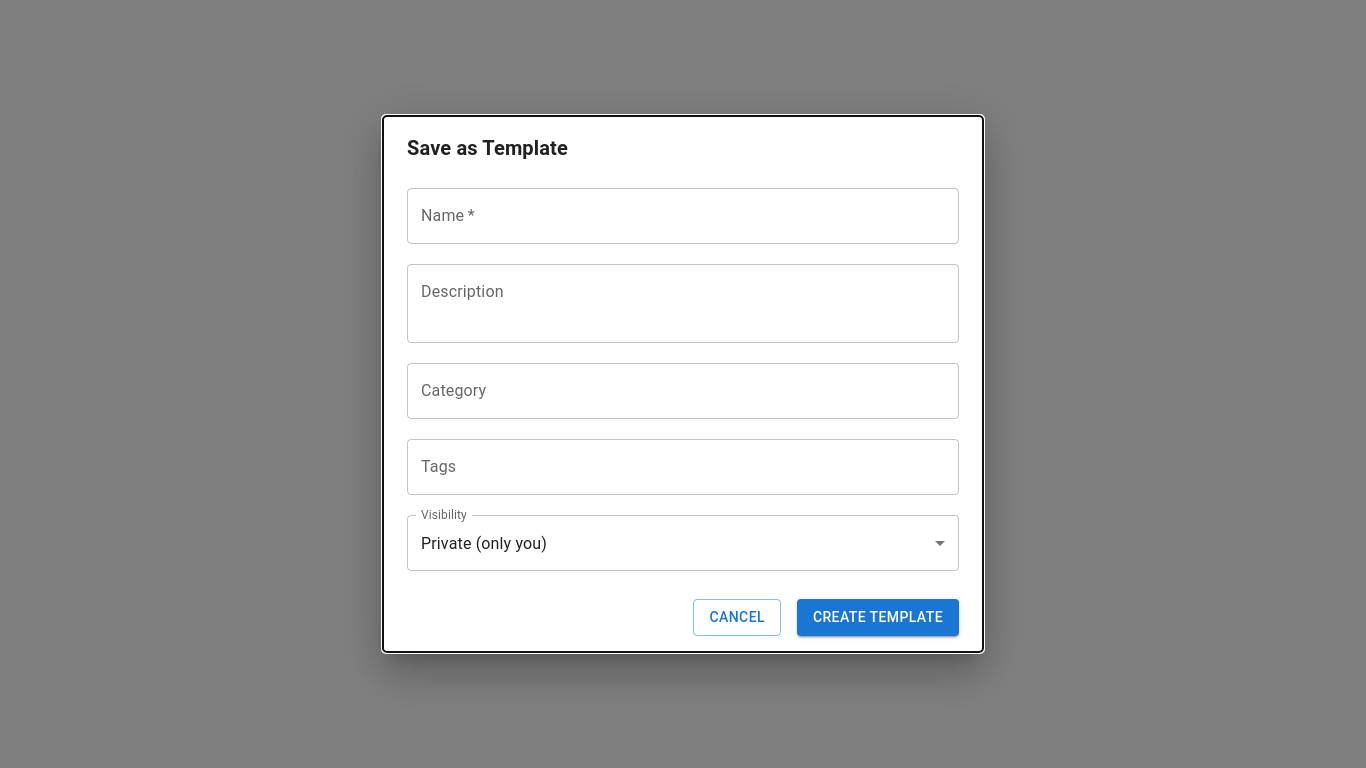
Test case: SaveAsTemplateModal › shows validation error when name is empty on submit
Click the button "Create Template": click(878, 618) [797,599,959,636]
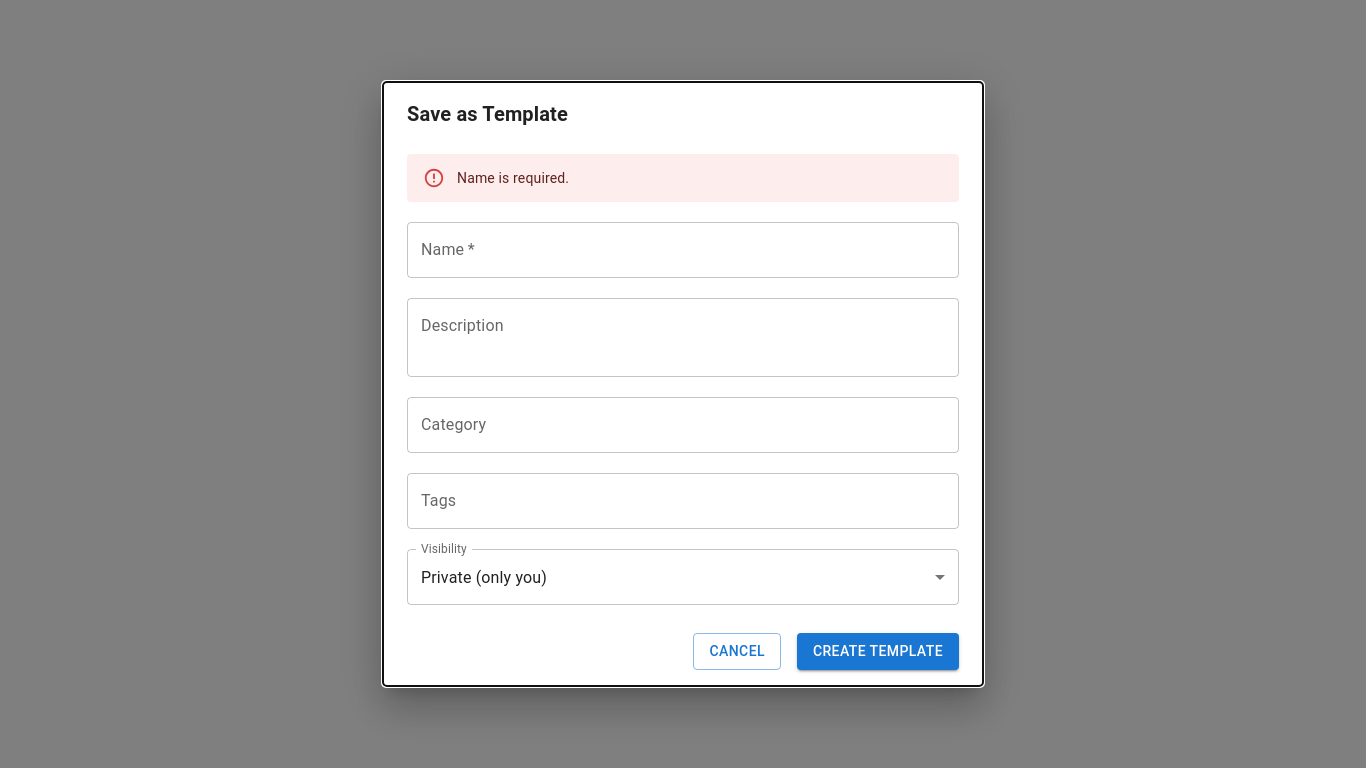
Expected: the text "Name is required." is shown, [457,170,569,186]
